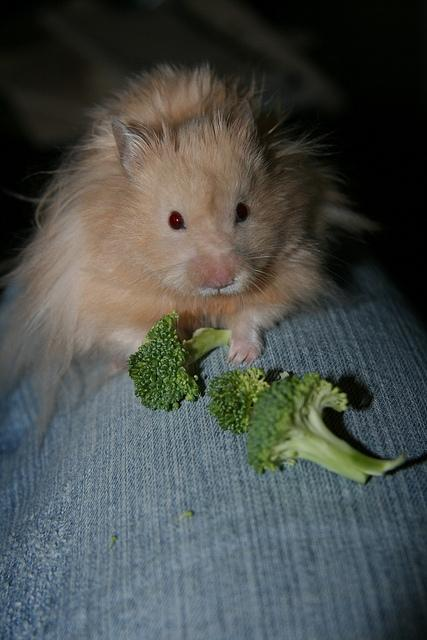broccoli: (243, 372, 406, 485), (126, 310, 231, 412), (206, 367, 270, 436)
